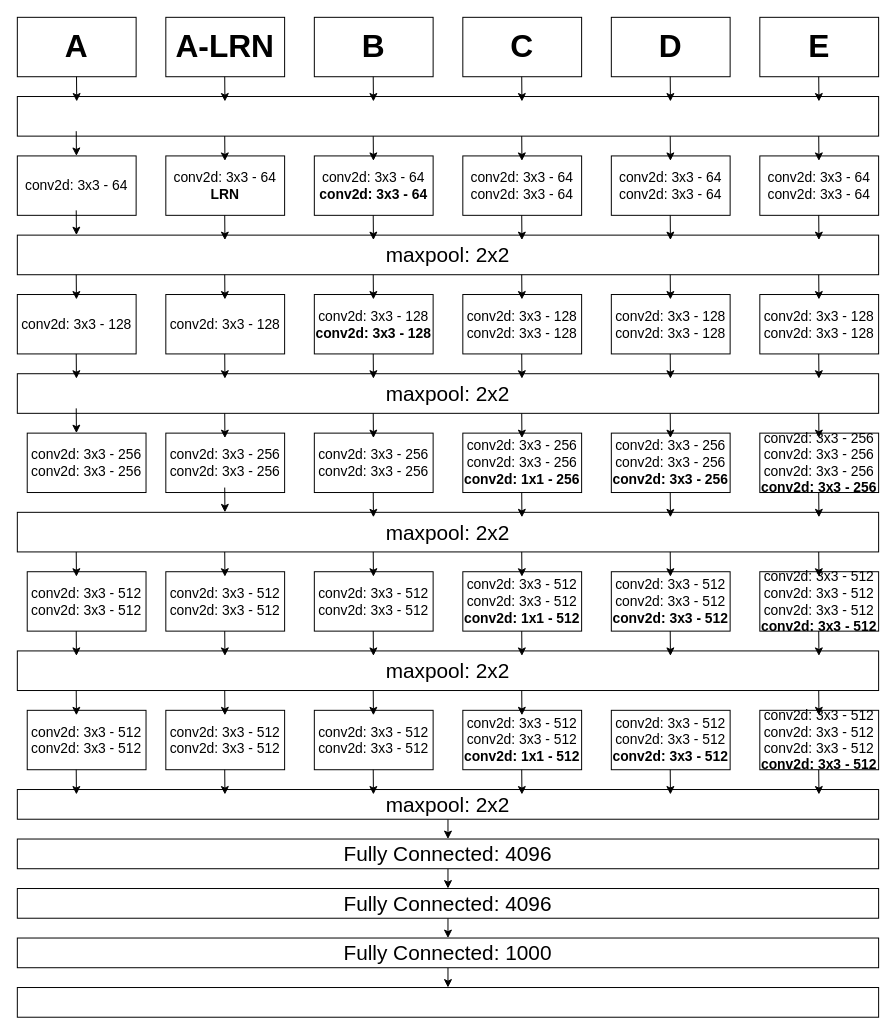
This 896x1035 diagram has some shape labels left out. Here are the shapes that lost their labels. From the top down, the centre of each, then its label:
the point at 447,116: Input: RGB Image Size of 224 X 224
the point at 447,1002: Softmax
